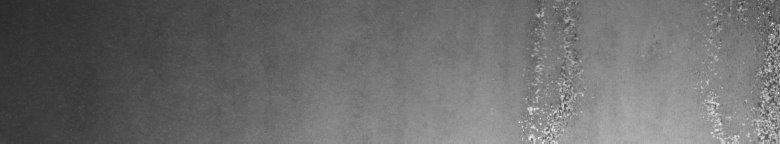hc: (694, 4, 776, 136)
